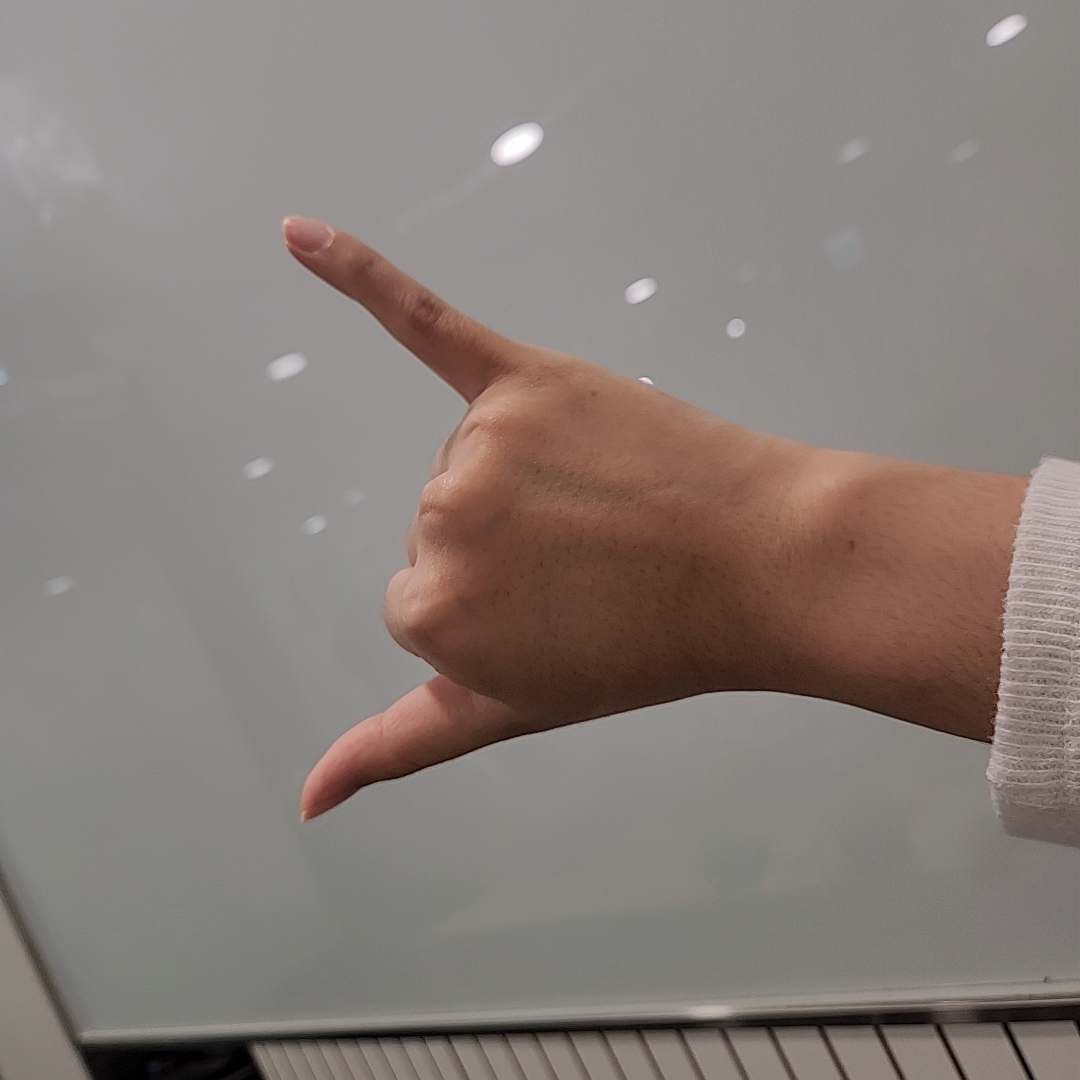call: (283, 214, 700, 819)
